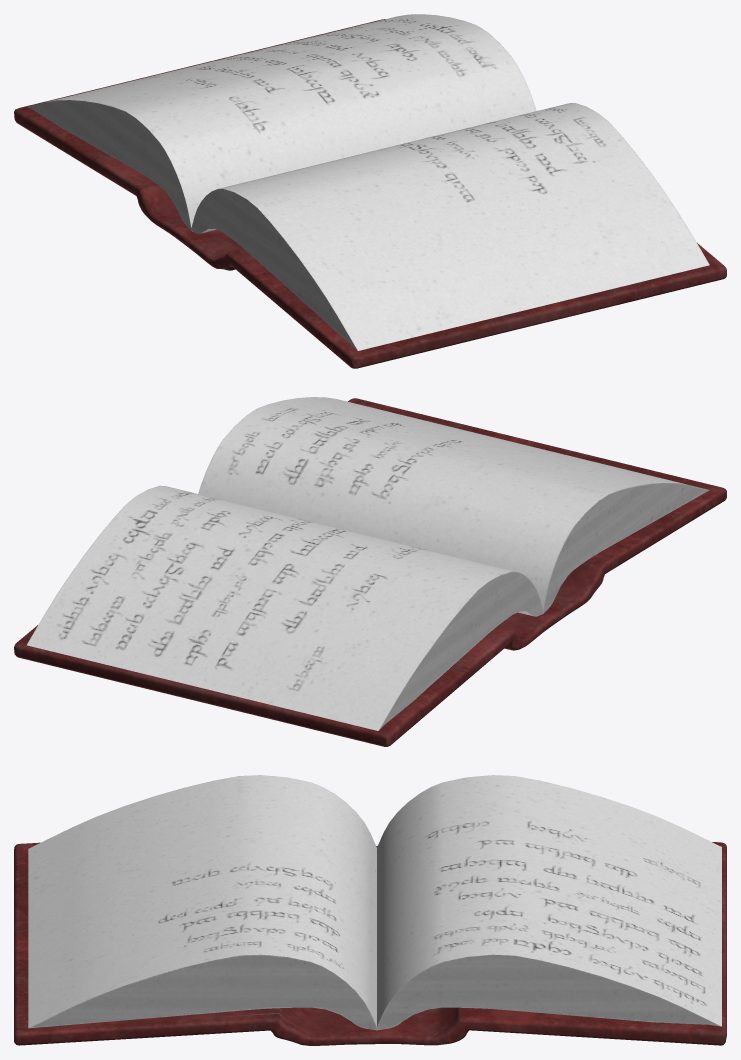
The model's file is SM_BookC.fbx.
3 renders of one model, top to bottom at view 1: azimuth 30°, elevation 25°; view 2: azimuth 150°, elevation 25°; view 3: azimuth 270°, elevation 25°, orthographic. The views are drawn at different scales.
Parts seen in each view (by area): view 1: SM_BookC_LOD0; view 2: SM_BookC_LOD0; view 3: SM_BookC_LOD0.
Part boxes in pixels (x1,y1,x2,y2): SM_BookC_LOD0: (14, 14, 726, 368); SM_BookC_LOD0: (14, 397, 726, 746); SM_BookC_LOD0: (14, 775, 726, 1045).
Bounding box in the file's own units: 32 × 50.31 × 6.74.
1 material, 1 textured.
